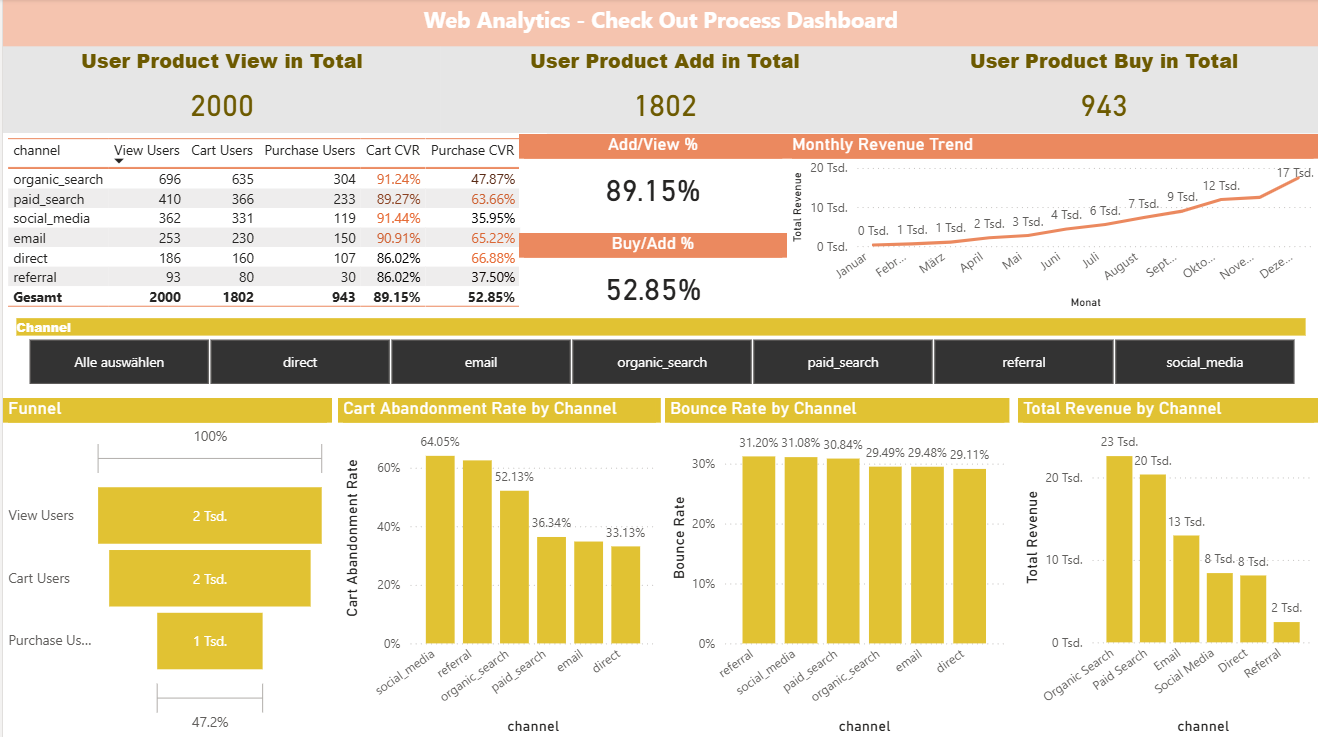

This screenshot's page, from the dashboard's own definition file:
{"tool":"powerbi","page":{"name":"Check Out Funnel Overview","canvas":[1280,720],"ordinal":0},"visuals":[{"type":"card","title":"User Product View in Total","fields":{"Values":["Sum(funnel_overall.view_users)"]},"box":[0,45.7,426,84.6],"z":0},{"type":"card","title":"User Product Add in Total","fields":{"Values":["Sum(funnel_overall.cart_users)"]},"box":[426,45.7,435.7,84.6],"z":1000},{"type":"card","title":"User Product Buy in Total","fields":{"Values":["Sum(funnel_overall.purchase_users)"]},"box":[861.8,45.7,418.2,84.6],"z":2000},{"type":"textbox","box":[0,0,1280,45.7],"z":3000},{"type":"funnel","title":"Funnel","fields":{"Y":["events.Kennzahl","events.Cart Users","events.Purchase Users"]},"box":[0,388.1,320,331.7],"z":4000},{"type":"pivotTable","fields":{"Values":["Sum(funnel_chaannel.view_users)","Sum(funnel_chaannel.cart_users)","Sum(funnel_chaannel.purchase_users)","Avg(funnel_chaannel.cart_conversion_rate)","Avg(funnel_chaannel.purchase_conversion_rate)"],"Rows":["funnel_chaannel.channel"]},"box":[0,130.3,529.1,175.1],"z":5000},{"type":"card","title":"Buy/Add % ","fields":{"Values":["Avg(funnel_chaannel.Purchase CVR)"]},"box":[501.9,227.6,260.7,86.6],"z":6000},{"type":"card","title":"Add/View % ","fields":{"Values":["Avg(funnel_chaannel.cart_conversion_rate)"]},"box":[501.9,131.3,260.7,86.6],"z":7000},{"type":"slicer","fields":{"Values":["users.channel"]},"box":[0,305.4,1280,75.9],"z":8000},{"type":"clusteredColumnChart","title":"Bounce Rate by Channel","fields":{"Y":["sessions.Bounce Rate"],"Category":["sessions.channel"]},"box":[643.9,388.1,334.6,331.7],"z":9000},{"type":"clusteredColumnChart","title":"Cart Abandonment Rate by Channel","fields":{"Y":["events.Cart Abandonment Rate"],"Category":["users.channel"]},"box":[325.8,388.1,314.2,331.7],"z":10000},{"type":"clusteredColumnChart","title":"Total Revenue by Channel","fields":{"Category":["transactions.channel"],"Y":["transactions.Total Revenue"]},"box":[987.2,388.1,292.8,331.7],"z":11000},{"type":"lineChart","title":"Monthly Revenue Trend","fields":{"Y":["transactions.Total Revenue"],"Category":["transactions.transaction_date.Variation.Datumshierarchie.Monat"]},"box":[762.6,131.3,517.4,174.1],"z":11001}]}

Visuals, with their boxes in screenshot pixels (x1, y1, x2, y2), scaled from the page's 1280x720 canvas onto the 1318x737 screenshot:
"User Product View in Total" card: x1=0, y1=47, x2=439, y2=133
"User Product Add in Total" card: x1=439, y1=47, x2=887, y2=133
"User Product Buy in Total" card: x1=887, y1=47, x2=1317, y2=133
textbox: x1=0, y1=0, x2=1317, y2=47
"Funnel" funnel: x1=0, y1=397, x2=330, y2=736
pivotTable - Sum(funnel_chaannel.view_users) x Sum(funnel_chaannel.cart_users): x1=0, y1=133, x2=545, y2=313
"Buy/Add % " card: x1=517, y1=233, x2=785, y2=322
"Add/View % " card: x1=517, y1=134, x2=785, y2=223
slicer - users.channel: x1=0, y1=313, x2=1317, y2=390
"Bounce Rate by Channel" clusteredColumnChart: x1=663, y1=397, x2=1008, y2=736
"Cart Abandonment Rate by Channel" clusteredColumnChart: x1=335, y1=397, x2=659, y2=736
"Total Revenue by Channel" clusteredColumnChart: x1=1017, y1=397, x2=1317, y2=736
"Monthly Revenue Trend" lineChart: x1=785, y1=134, x2=1317, y2=313
